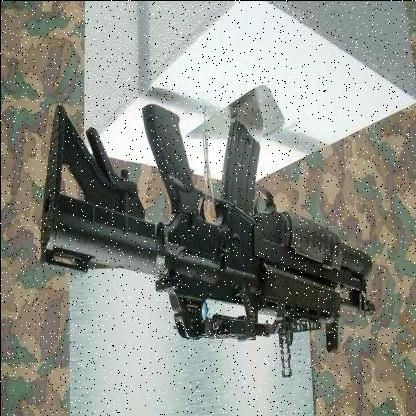rifle: (28, 69, 378, 364)
